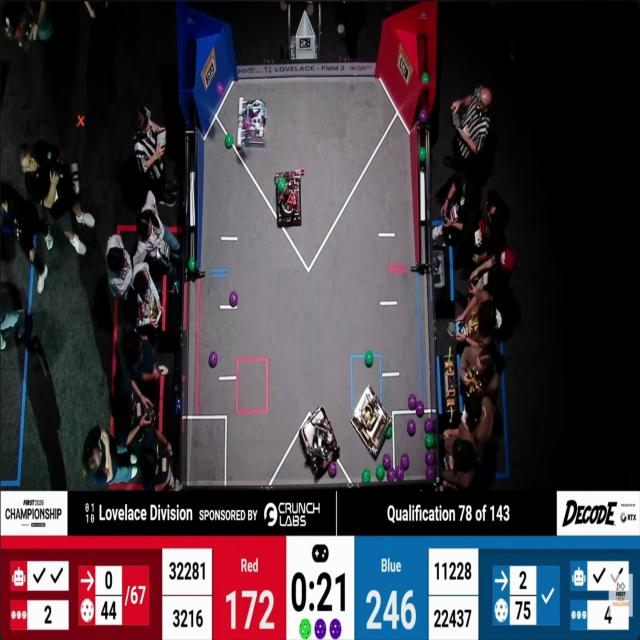artifact_green: (299, 619, 311, 639), (364, 350, 374, 367), (376, 464, 385, 481), (425, 433, 434, 449), (277, 177, 286, 193), (225, 134, 233, 149), (419, 147, 427, 162), (362, 469, 370, 483), (421, 72, 430, 83), (386, 423, 392, 439), (189, 257, 195, 271), (388, 420, 392, 427)
artifact_purple: (330, 619, 341, 639), (315, 619, 326, 639), (382, 453, 392, 471), (400, 453, 409, 471), (425, 449, 435, 465), (407, 420, 416, 436), (216, 81, 225, 97), (408, 394, 417, 410), (426, 465, 435, 481), (328, 462, 337, 477), (416, 401, 424, 417), (209, 351, 217, 367), (230, 291, 238, 307), (425, 419, 434, 433), (419, 108, 427, 123), (396, 466, 404, 481), (387, 468, 395, 482), (243, 117, 251, 130)
